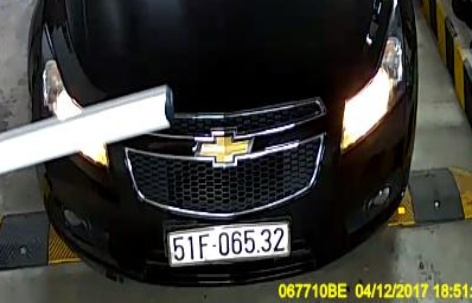plate: (162, 220, 294, 271)
